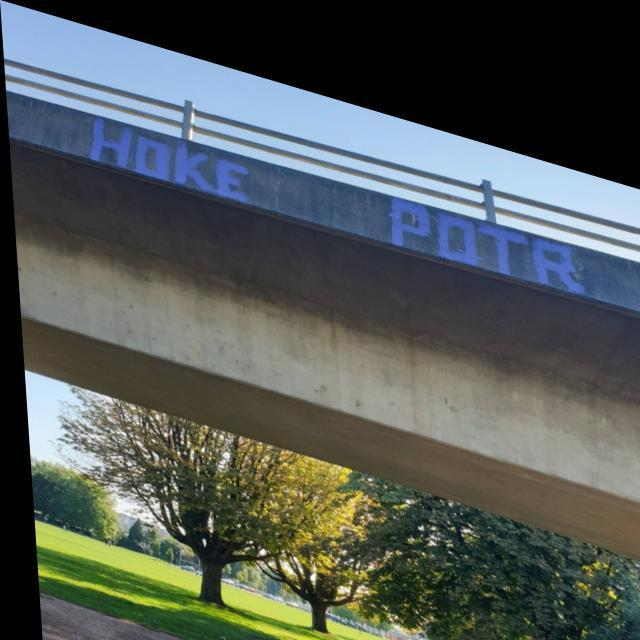-: (374, 157, 586, 278), (80, 107, 273, 208)
